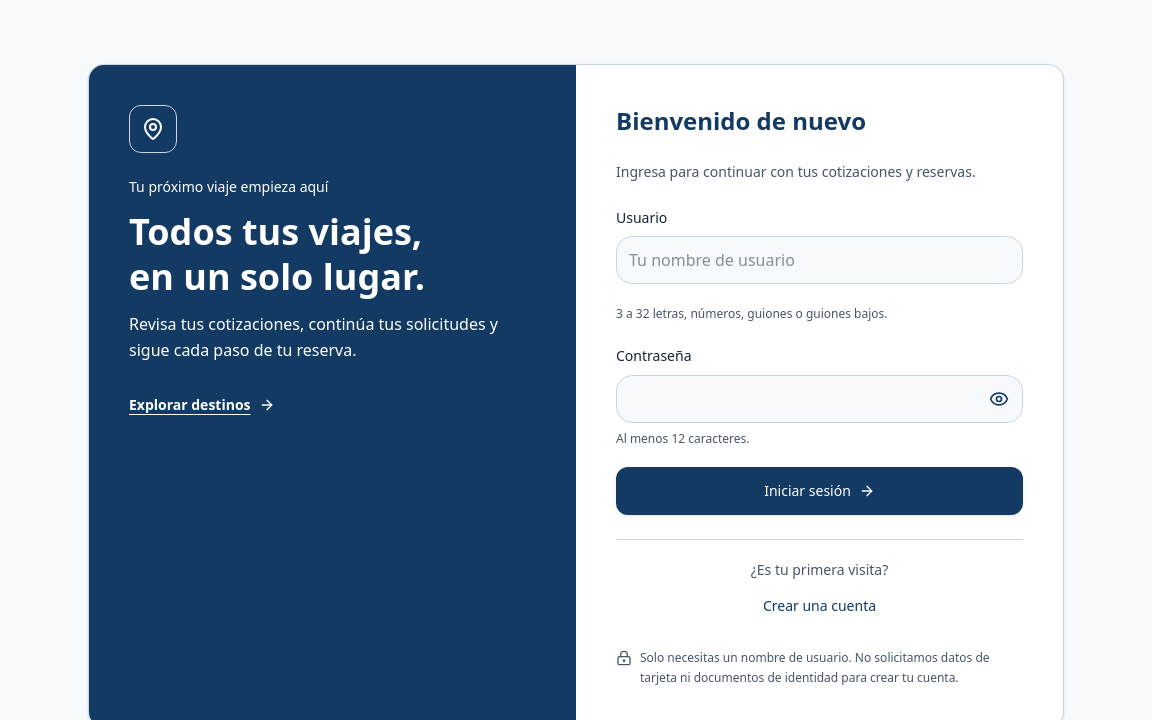
Scenario: ingreso normaliza el usuario y retorna a la solicitud autorizada
Type "FIXTURE" into the field labelled "Usuario" at coordinates (820, 260), box [616,236,1023,284]
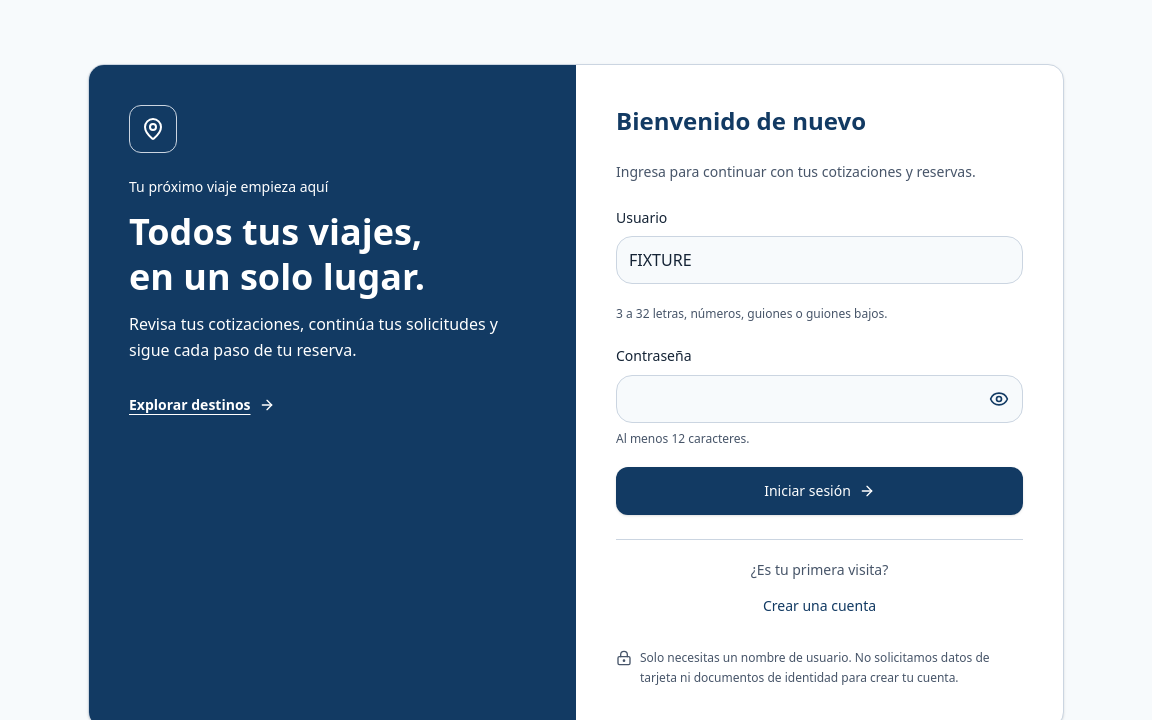
Type "fixture-password" into the password field labelled "Contraseña" at coordinates (820, 399), box [616,375,1023,423]
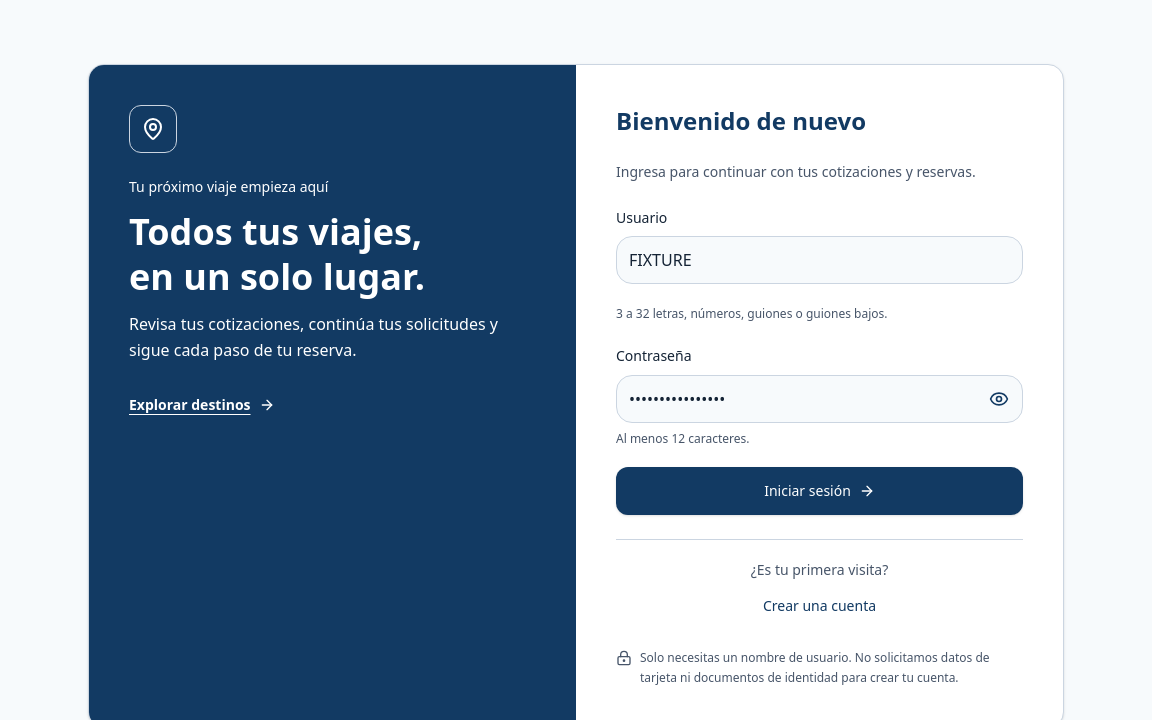
Submit the form named "Iniciar sesión", box [616,208,1023,515]
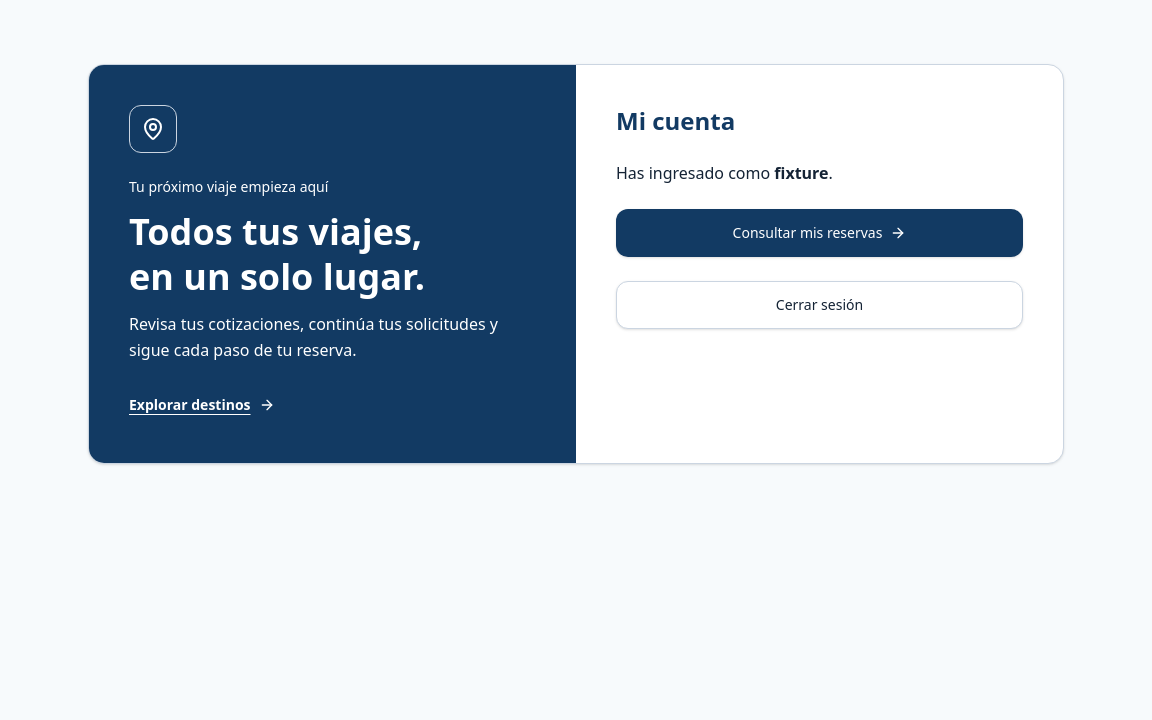
Expected: the text "fixture" is shown, [774,162,828,184]
